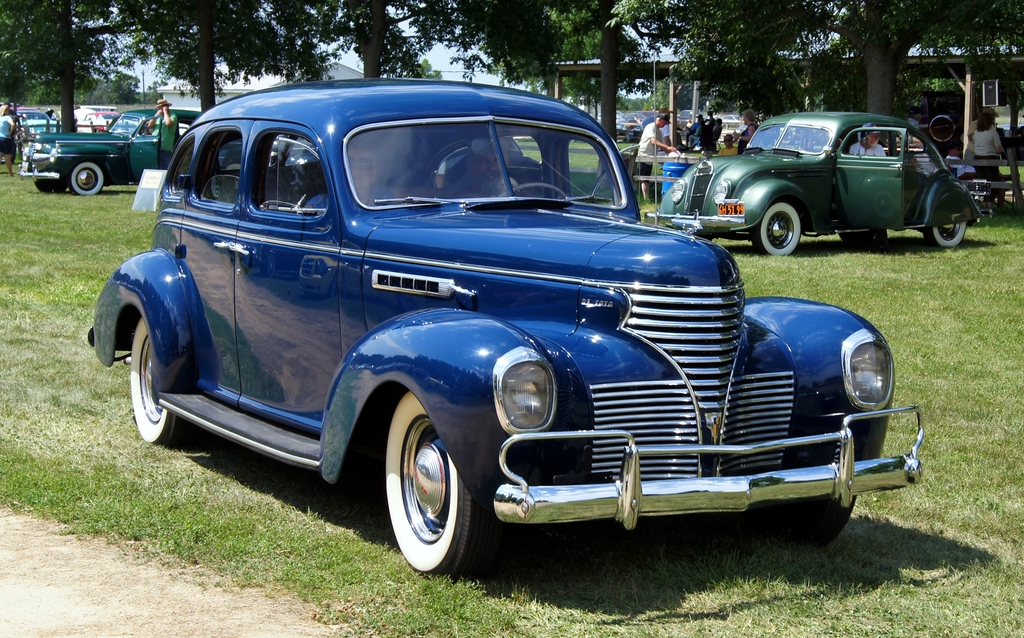Car: (81, 71, 937, 586), (639, 103, 980, 240), (23, 107, 208, 192), (17, 106, 56, 130)
